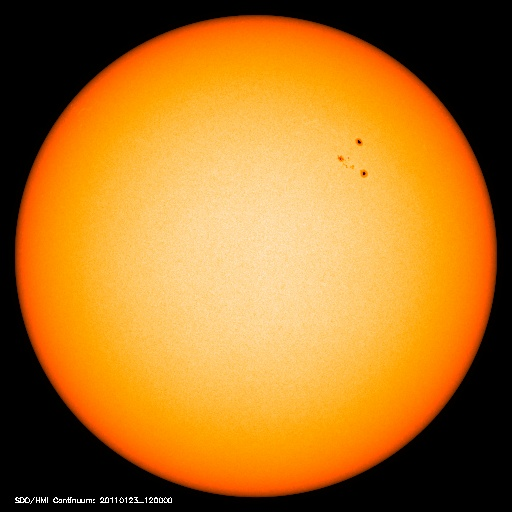sunspot: (330, 130, 373, 182)
